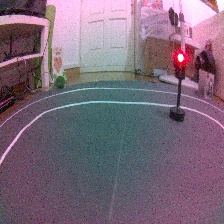red: (170, 48, 190, 122)
